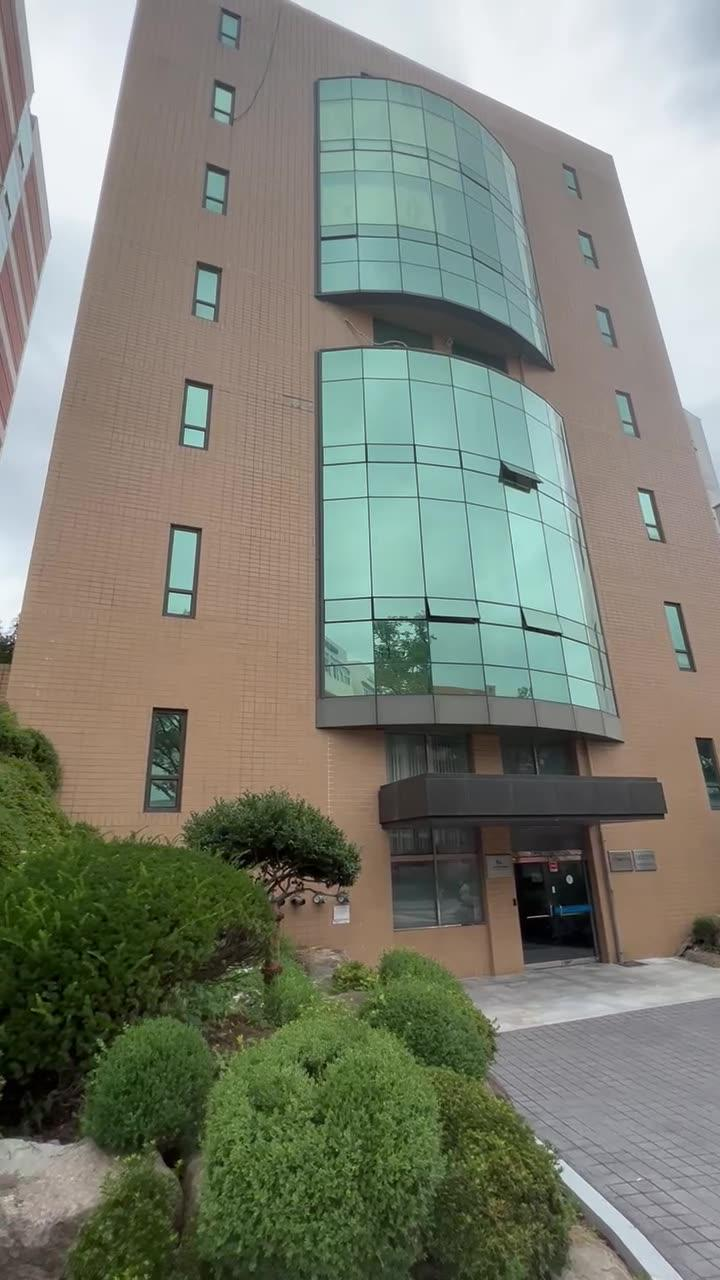building: (100, 32, 676, 802)
